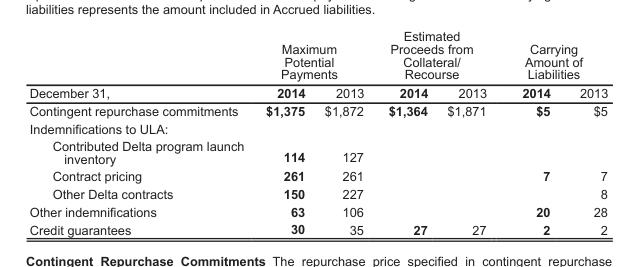table: (28, 28, 607, 236)
table column: (28, 28, 254, 236), (436, 28, 503, 236), (314, 28, 375, 236), (375, 28, 436, 236), (503, 28, 564, 236), (254, 28, 314, 236), (564, 28, 607, 236)
table column header: (28, 28, 607, 101)
table projected row header: (28, 119, 607, 137)
table row: (28, 28, 607, 83), (28, 137, 607, 167), (28, 83, 607, 101), (28, 101, 607, 119), (28, 119, 607, 137), (28, 184, 607, 202), (28, 202, 607, 220), (28, 167, 607, 184), (28, 220, 607, 236)
table spanning cell: (28, 28, 254, 101), (375, 28, 503, 83), (254, 28, 375, 83), (503, 28, 607, 83)
